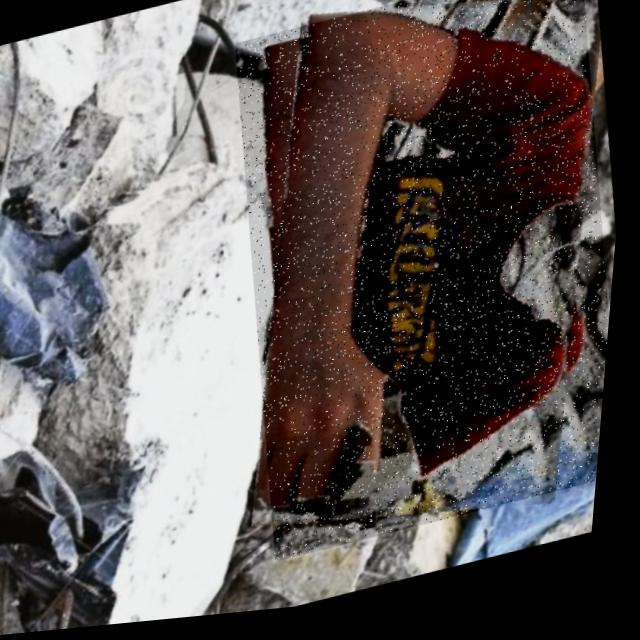Person in Rubble: (201, 0, 639, 575)
